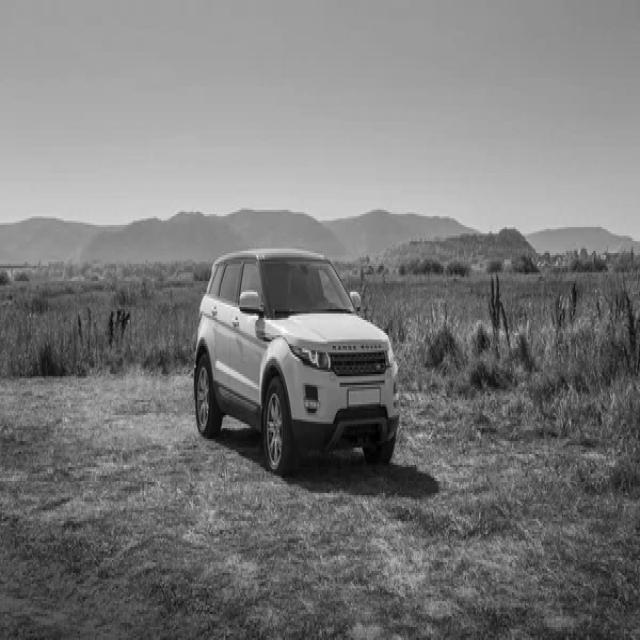Car: (194, 247, 400, 472)
